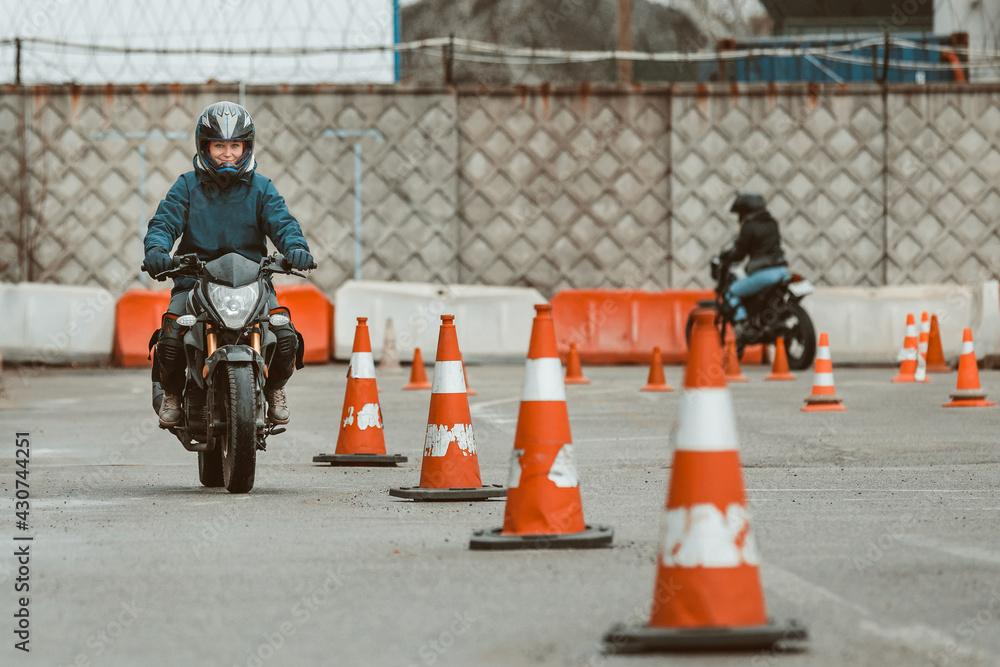helmet: (194, 100, 256, 188), (730, 188, 768, 226)
